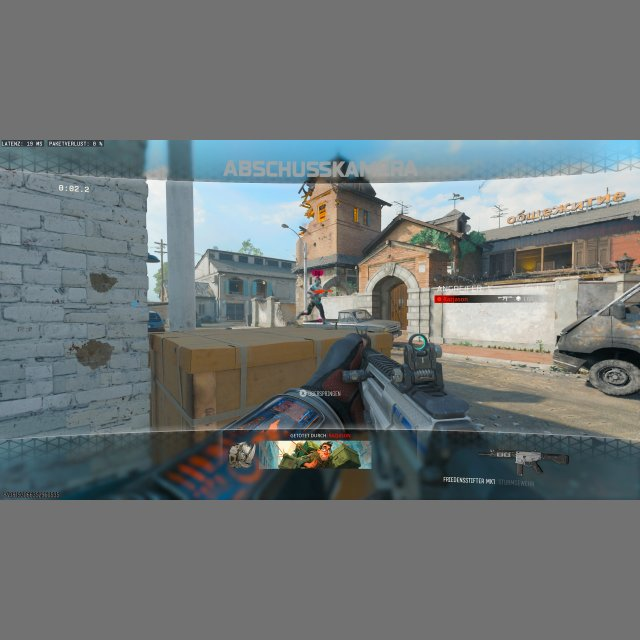head: (314, 279, 321, 286)
player: (296, 279, 327, 324)
